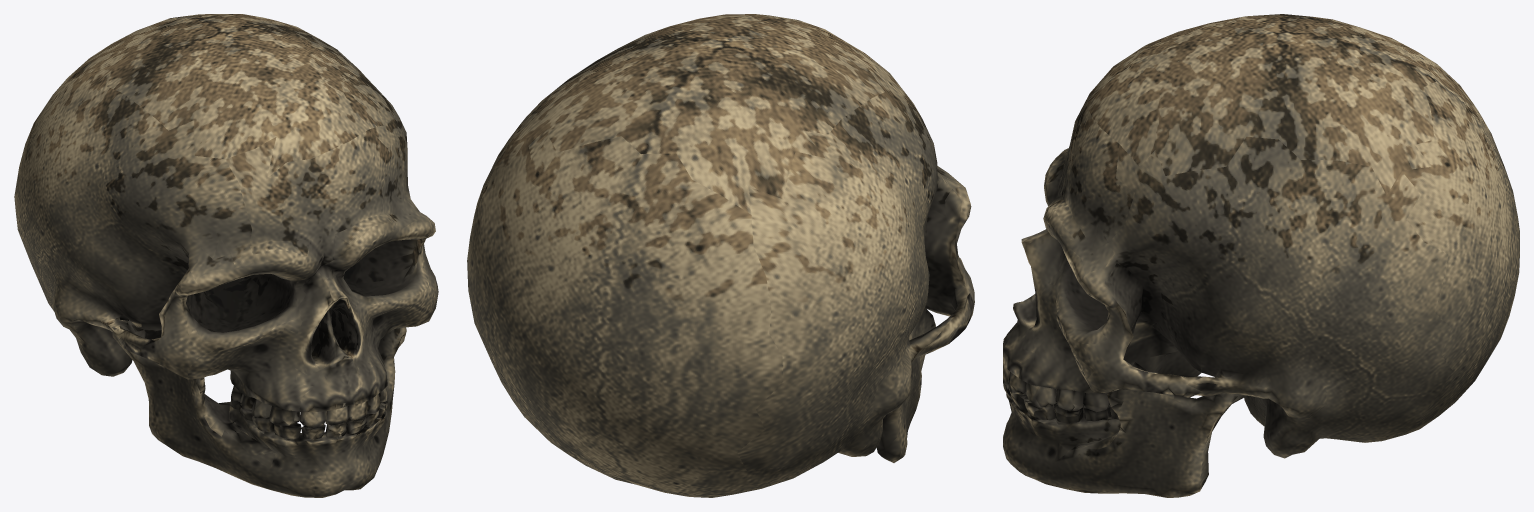
Rendered from mm7_deco_7dec20.glb.
3 views of the same model, side by side, from view 1: azimuth 30°, elevation 25°; view 2: azimuth 150°, elevation 25°; view 3: azimuth 270°, elevation 25° (orthographic). The views are drawn at different scales.
Visible parts, largest first — view 1: Skull; view 2: Skull; view 3: Skull.
Boxes of the visible parts, <box> form: Skull: <box>14,14,438,497</box>; Skull: <box>467,14,974,497</box>; Skull: <box>1003,14,1519,497</box>.
Size of the model in its own units: 0.2204 by 0.235 by 0.2564.
1 material, 1 textured.
